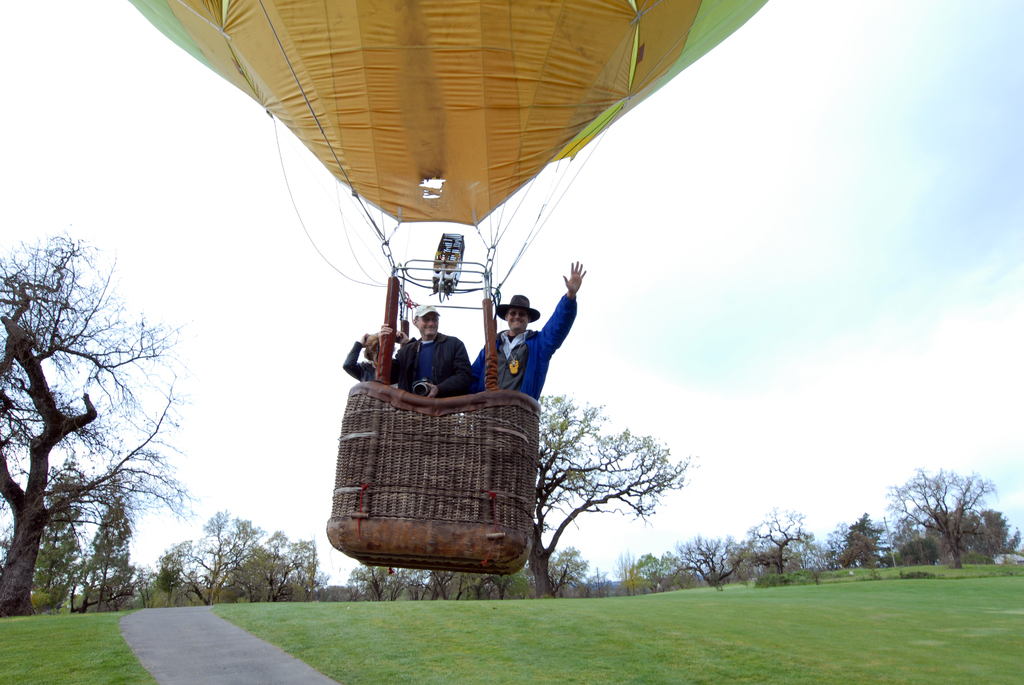face: (501, 303, 531, 331), (412, 310, 438, 338)
person: (430, 261, 583, 410), (394, 303, 470, 413), (342, 331, 394, 389)
